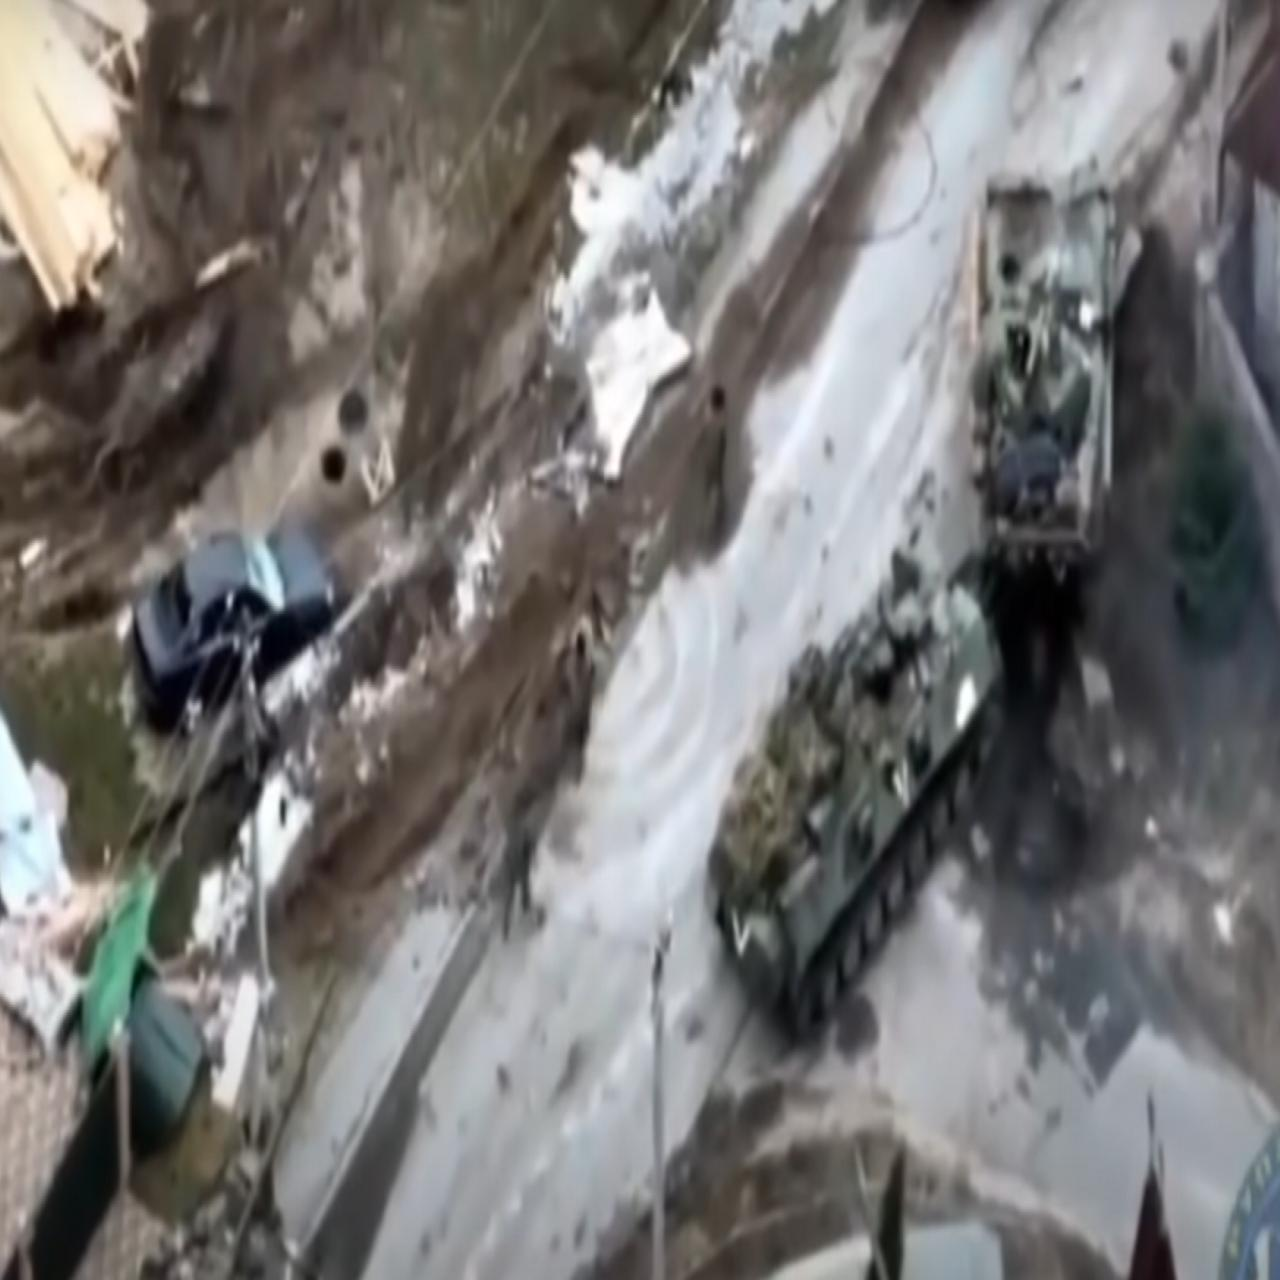MIL_Veh: (960, 156, 1123, 572)
